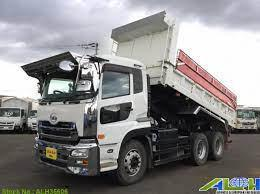Truck: (21, 10, 237, 185), (0, 105, 25, 134), (232, 108, 259, 134)
